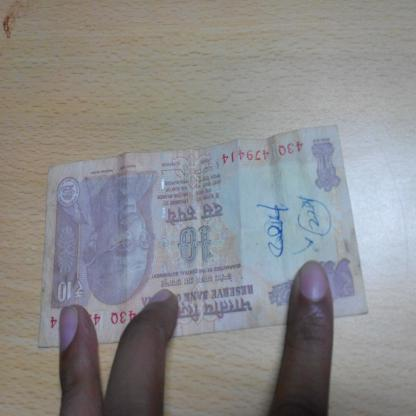Old10Front: (37, 124, 370, 348)
